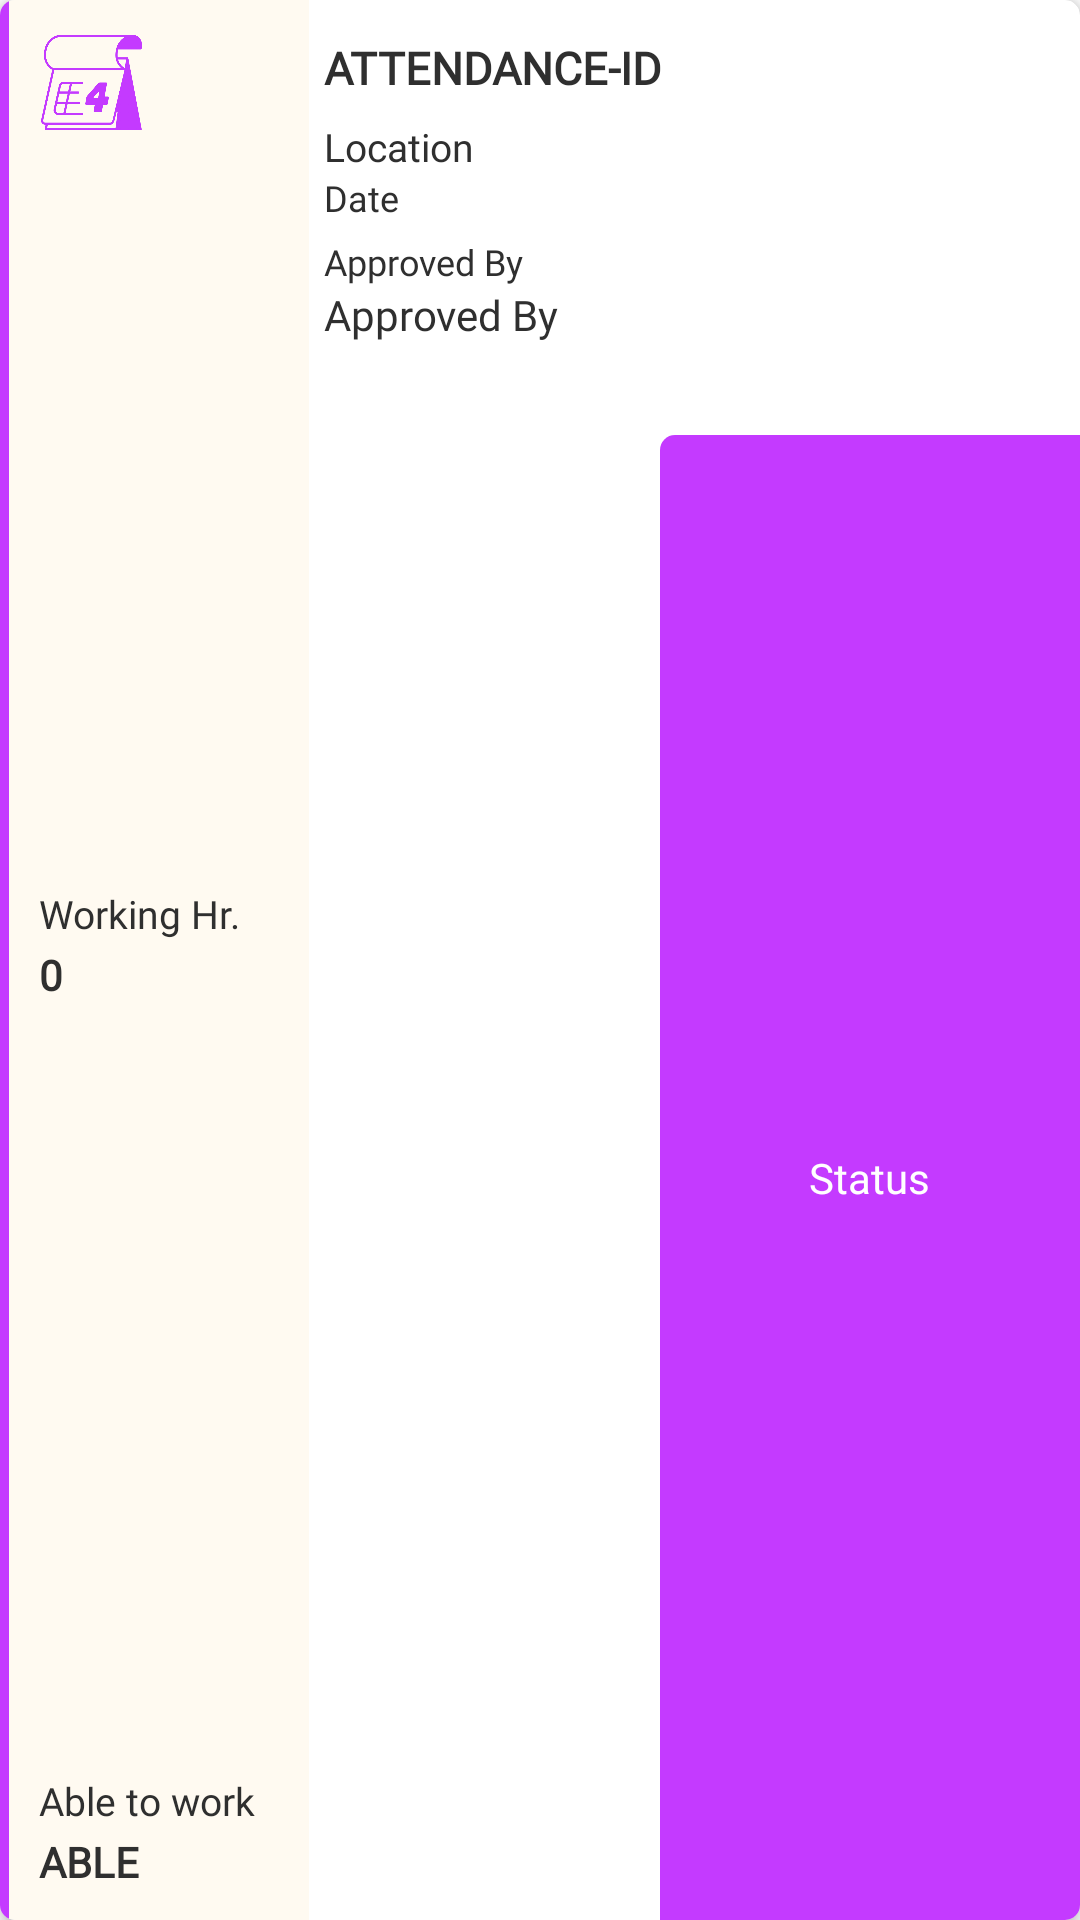

Icon bounding boxes for this 1080*1920 phone screenshot, format (x1=x1, y1=y1, x2=x2, y2=y2):
holiday: (x1=41, y1=35, x2=142, y2=130)
